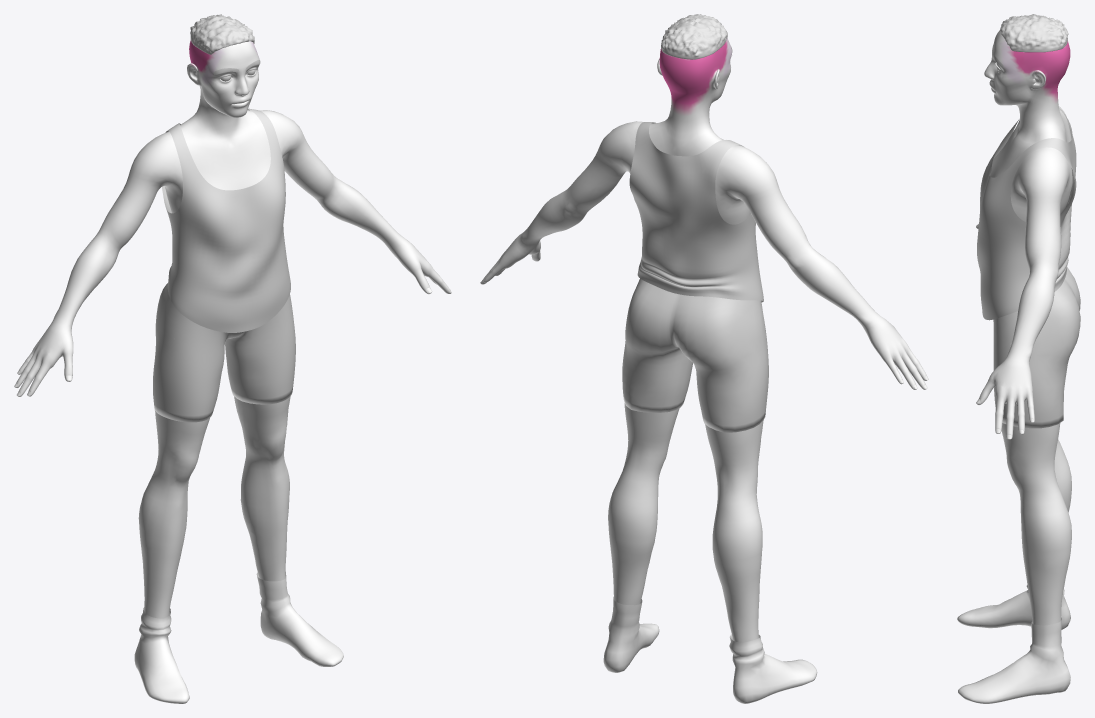
Rendered from Ava_Arm_2.fbx.
3 renders of one model, left to right at view 1: azimuth 30°, elevation 25°; view 2: azimuth 150°, elevation 25°; view 3: azimuth 270°, elevation 25°, orthographic. The views are drawn at different scales.
Visible parts, largest first — view 1: Ava_Body, Ava_ShirtFolds_2, Ava_Pants, Ava_Socks, Ava_hair; view 2: Ava_Body, Ava_Pants, Ava_ShirtFolds_2, Ava_Socks, Ava_hair; view 3: Ava_Body, Ava_ShirtFolds_2, Ava_Socks, Ava_Pants, Ava_hair.
Part boxes in pixels (x1=…): Ava_Body: x1=14, y1=40, x2=451, y2=618; Ava_ShirtFolds_2: x1=162, y1=108, x2=290, y2=332; Ava_Pants: x1=153, y1=283, x2=295, y2=422; Ava_Socks: x1=134, y1=572, x2=343, y2=703; Ava_hair: x1=190, y1=14, x2=254, y2=54; Ava_Body: x1=480, y1=38, x2=928, y2=642; Ava_Pants: x1=622, y1=278, x2=768, y2=432; Ava_ShirtFolds_2: x1=629, y1=122, x2=763, y2=302; Ava_Socks: x1=603, y1=596, x2=817, y2=703; Ava_hair: x1=661, y1=14, x2=727, y2=59; Ava_Body: x1=976, y1=30, x2=1072, y2=625; Ava_ShirtFolds_2: x1=977, y1=108, x2=1076, y2=320; Ava_Socks: x1=957, y1=585, x2=1070, y2=703; Ava_Pants: x1=993, y1=267, x2=1080, y2=428; Ava_hair: x1=1000, y1=14, x2=1068, y2=52.
Size of the model in its own units: 355 by 503 by 87.28.
